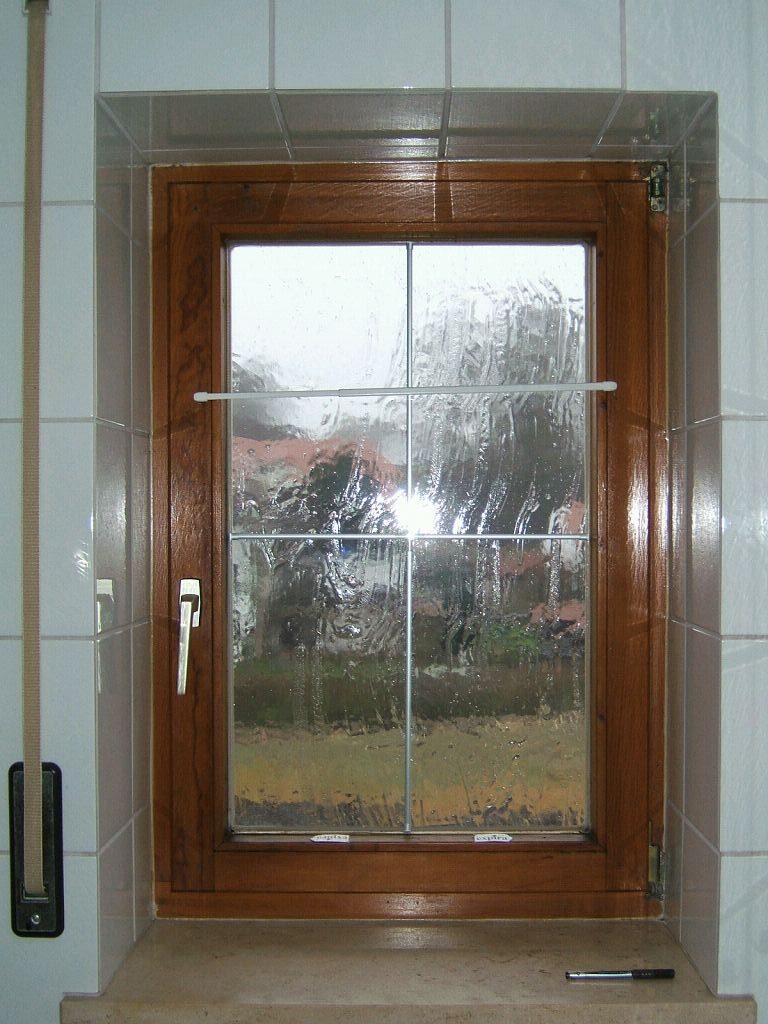windows: (147, 162, 681, 958)
